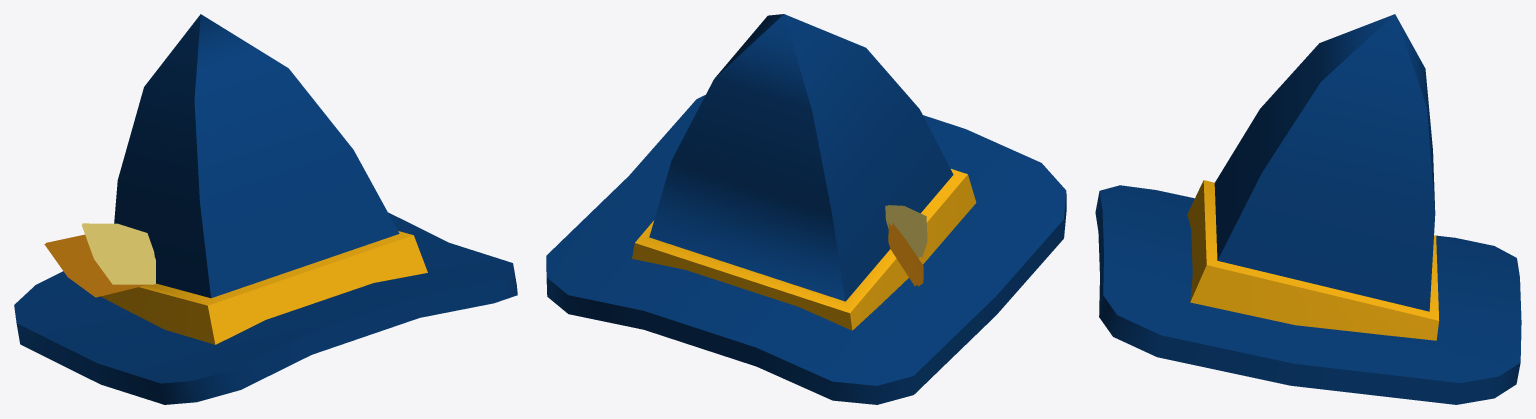
File: Hat 02.FBX
3 views of the same model, side by side, from view 1: azimuth 30°, elevation 25°; view 2: azimuth 150°, elevation 25°; view 3: azimuth 270°, elevation 25° (orthographic). The views are drawn at different scales.
Visible parts, largest first — view 1: Hat 02; view 2: Hat 02; view 3: Hat 02.
Part boxes in pixels (x1=…): Hat 02: x1=14, y1=14, x2=517, y2=404; Hat 02: x1=546, y1=14, x2=1066, y2=404; Hat 02: x1=1095, y1=14, x2=1521, y2=404.
Size of the model in its own units: 106 by 89.07 by 107.
Materials: 1 (1 with a texture image).
